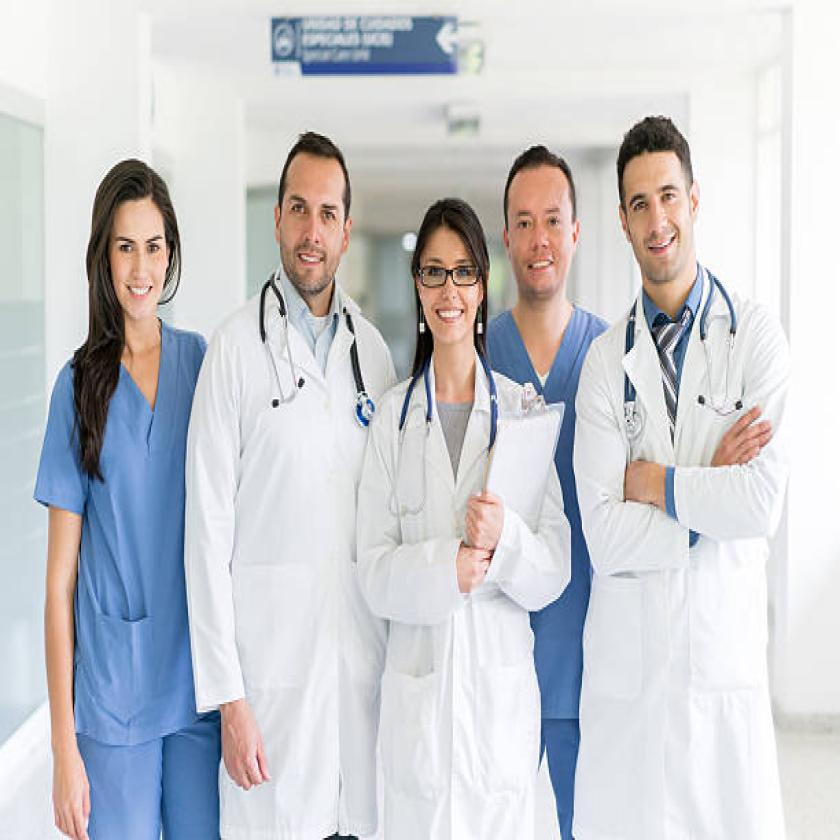Sin_casco: (80, 142, 203, 345), (617, 88, 729, 307), (265, 105, 383, 307), (394, 157, 497, 377), (500, 126, 592, 318)
